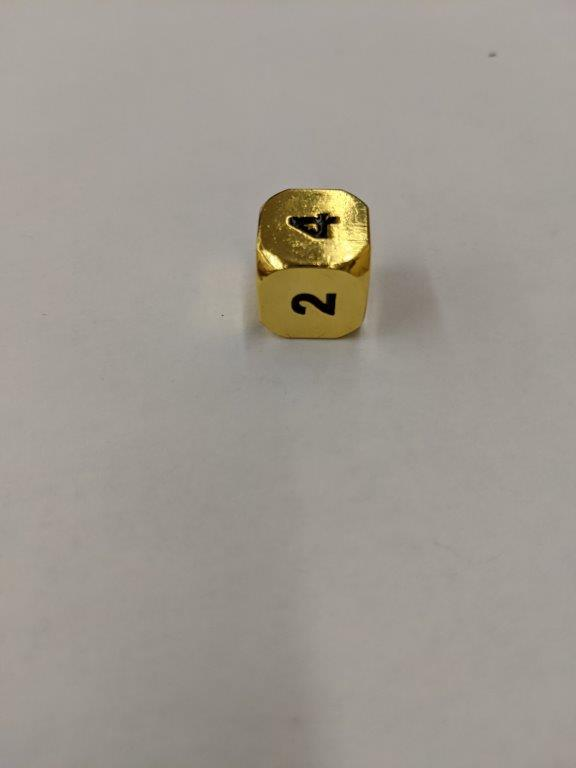d6-4: (254, 187, 372, 340)
